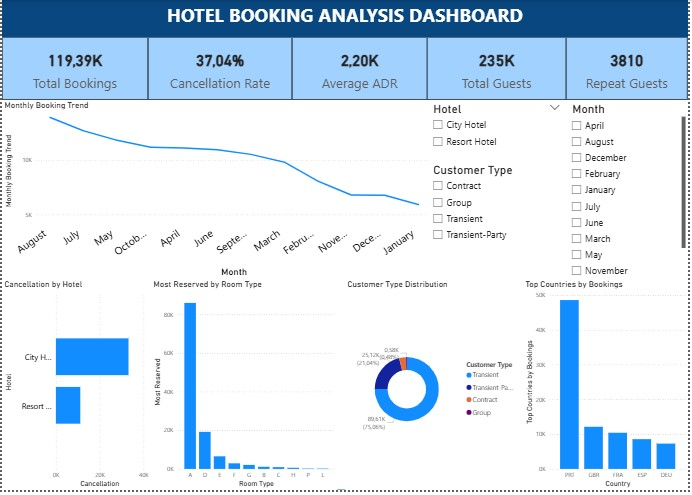

The dashboard page shown, as its layout file describes it:
{"tool":"powerbi","page":{"name":"Page 1","canvas":[1400,1000],"ordinal":0},"visuals":[{"type":"shape","box":[0,0,1400,1000],"z":0},{"type":"textbox","box":[0,0,1400,76],"z":1000},{"type":"card","fields":{"Values":["CountNonNull(Hotel_bookings.arrival_date_month)"]},"box":[0,76,298,128],"z":2000},{"type":"card","fields":{"Values":["Hotel_bookings.Cancellation Rate"]},"box":[298,76,294,128],"z":3000},{"type":"card","fields":{"Values":["Avg(Hotel_bookings.adr)"]},"box":[592,76,276,128],"z":4000},{"type":"card","fields":{"Values":["Hotel_bookings.Total Guests"]},"box":[868,76,284,128],"z":5000},{"type":"card","fields":{"Values":["Hotel_bookings.Repeat Guests"]},"box":[1152,76,248,128],"z":6000},{"type":"lineChart","title":"Monthly Booking Trend","fields":{"Category":["Hotel_bookings.arrival_date_month"],"Y":["CountNonNull(Hotel_bookings.arrival_date_month)"]},"box":[0,204.1,881.6,365.3],"z":7000},{"type":"clusteredBarChart","fields":{"Category":["Hotel_bookings.hotel"],"Y":["Sum(Hotel_bookings.is_canceled)"]},"box":[0,569.4,304.1,430.6],"z":8000},{"type":"columnChart","fields":{"Category":["Hotel_bookings.reserved_room_type"],"Y":["CountNonNull(Hotel_bookings.reserved_room_type)"]},"box":[304.1,569.4,379.6,430.6],"z":9000},{"type":"donutChart","title":"Customer Type Distribution","fields":{"Category":["Hotel_bookings.customer_type"],"Y":["CountNonNull(Hotel_bookings.customer_type)"]},"box":[700,569.4,363.3,430.6],"z":10000},{"type":"columnChart","title":"Top Countries by Bookings","fields":{"Category":["Hotel_bookings.country"],"Y":["CountNonNull(Hotel_bookings.country)"]},"box":[1063.3,569.4,336.7,430.6],"z":11000},{"type":"slicer","fields":{"Values":["Hotel_bookings.hotel"]},"box":[867.3,204.1,283.7,124.5],"z":12000},{"type":"slicer","fields":{"Values":["Hotel_bookings.arrival_date_month"]},"box":[1151,204.1,249,365.3],"z":13000},{"type":"slicer","fields":{"Values":["Hotel_bookings.customer_type"]},"box":[867.3,328.6,283.7,240.8],"z":14000}]}

Visuals, with their boxes in screenshot pixels (x1, y1, x2, y2), scaled from the page's 1400x1000 canvas onto the 692x495 screenshot:
shape: x1=0, y1=0, x2=691, y2=494
textbox: x1=0, y1=0, x2=691, y2=38
card - CountNonNull(Hotel_bookings.arrival_date_month): x1=0, y1=38, x2=147, y2=101
card - Hotel_bookings.Cancellation Rate: x1=147, y1=38, x2=293, y2=101
card - Avg(Hotel_bookings.adr): x1=293, y1=38, x2=429, y2=101
card - Hotel_bookings.Total Guests: x1=429, y1=38, x2=569, y2=101
card - Hotel_bookings.Repeat Guests: x1=569, y1=38, x2=691, y2=101
"Monthly Booking Trend" lineChart: x1=0, y1=101, x2=436, y2=282
clusteredBarChart - Hotel_bookings.hotel x Sum(Hotel_bookings.is_canceled): x1=0, y1=282, x2=150, y2=494
columnChart - Hotel_bookings.reserved_room_type x CountNonNull(Hotel_bookings.reserved_room_type): x1=150, y1=282, x2=338, y2=494
"Customer Type Distribution" donutChart: x1=346, y1=282, x2=526, y2=494
"Top Countries by Bookings" columnChart: x1=526, y1=282, x2=691, y2=494
slicer - Hotel_bookings.hotel: x1=429, y1=101, x2=569, y2=163
slicer - Hotel_bookings.arrival_date_month: x1=569, y1=101, x2=691, y2=282
slicer - Hotel_bookings.customer_type: x1=429, y1=163, x2=569, y2=282
